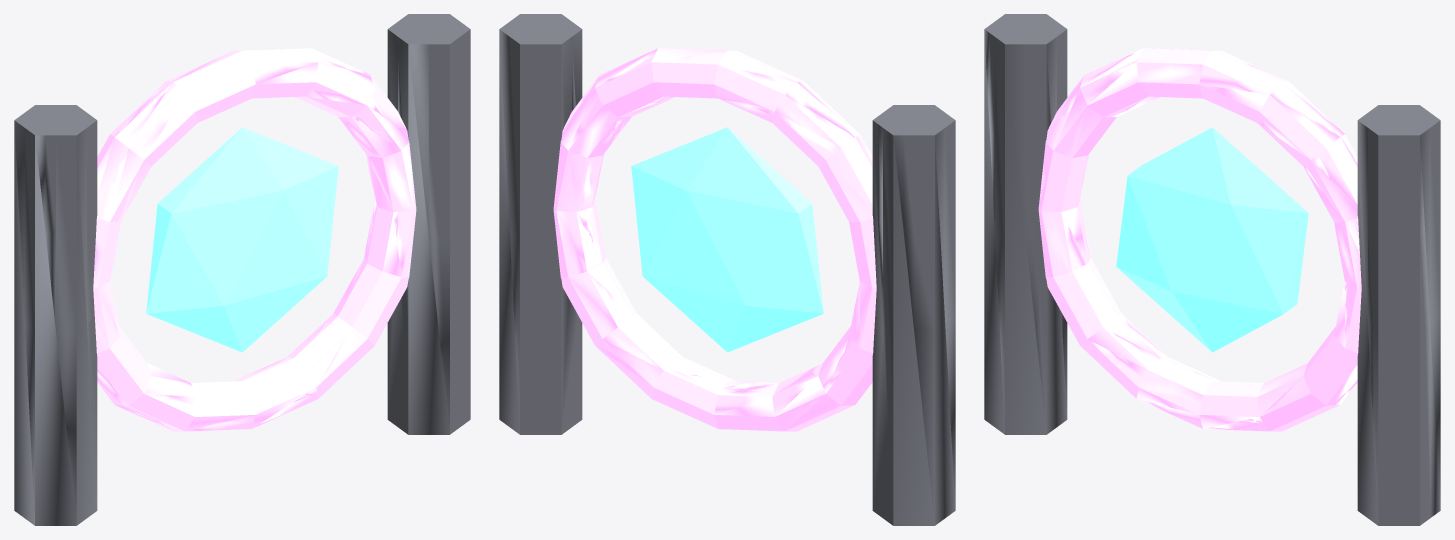
Rendered from portal_gate.glb.
3 views of the same model, side by side, from view 1: azimuth 30°, elevation 25°; view 2: azimuth 150°, elevation 25°; view 3: azimuth 330°, elevation 25° (orthographic).
Parts seen in each view (by area): view 1: PortalPillarL; view 2: PortalPillarL; view 3: PortalPillarL.
Boxes of the visible parts, <box> form: PortalPillarL: <box>14,14,470,525</box>; PortalPillarL: <box>499,14,955,525</box>; PortalPillarL: <box>984,14,1440,525</box>.
Bounding box in the file's own units: 3.03 × 2.76 × 0.5.
